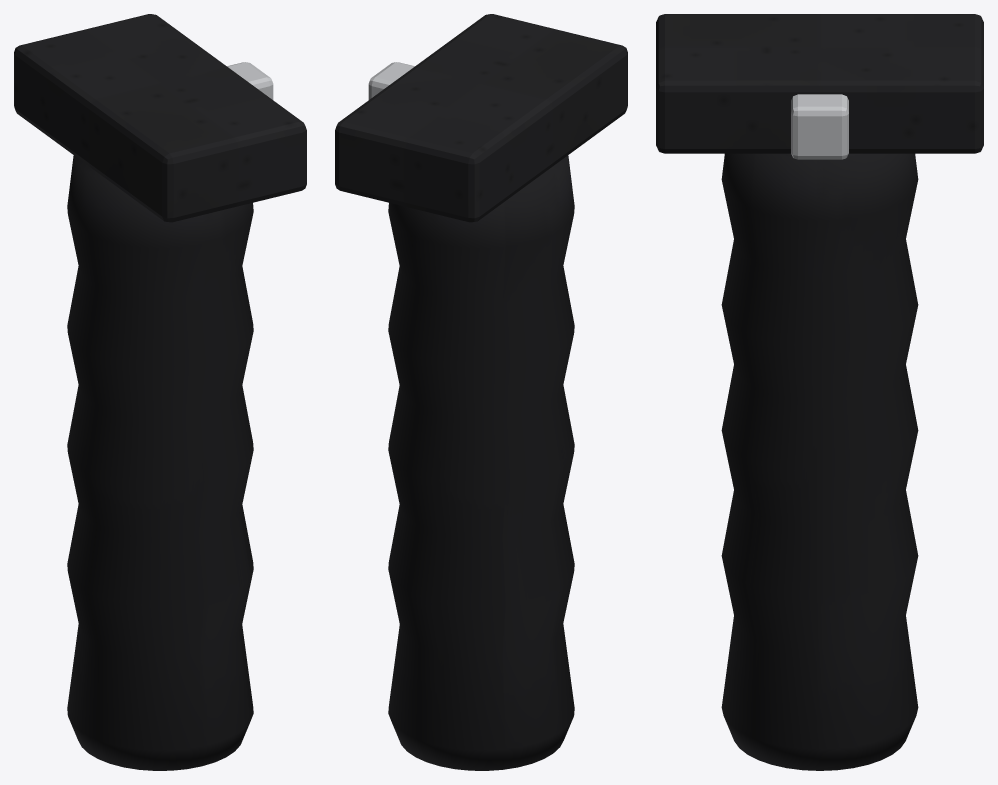
The model's file is grip_vertical.glb.
3 views of the same model, side by side, from view 1: azimuth 30°, elevation 25°; view 2: azimuth 150°, elevation 25°; view 3: azimuth 270°, elevation 25° (orthographic). The views are drawn at different scales.
Parts seen in each view (by area): view 1: grip, g_clamp, g_screw; view 2: grip, g_clamp, g_screw; view 3: grip, g_clamp, g_screw.
Part boxes in pixels (x1,y1,x2,y2): grip: (67,155,253,770); g_clamp: (14,14,306,222); g_screw: (227,62,273,99); grip: (388,155,574,770); g_clamp: (335,14,627,222); g_screw: (368,62,414,99); grip: (721,153,918,770); g_clamp: (656,14,983,153); g_screw: (791,94,848,159).
Size of the model in its own units: 0.0305 by 0.104 by 0.045.
Materials: 3 (2 with a texture image).
